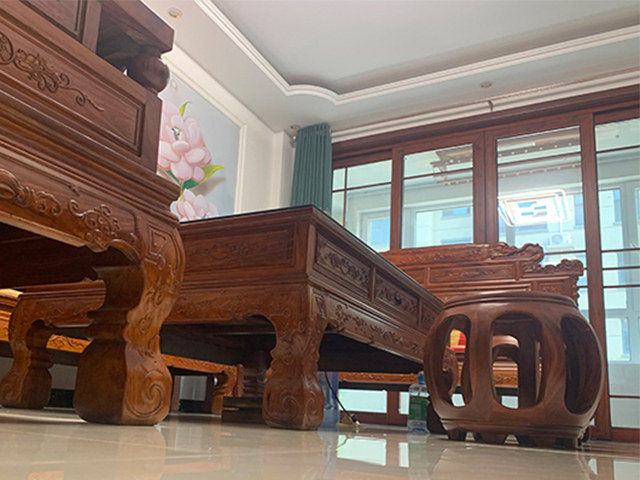sofa: (1, 1, 185, 428)
stool: (422, 290, 606, 450)
table: (160, 202, 454, 433)
wire: (323, 370, 360, 425)
